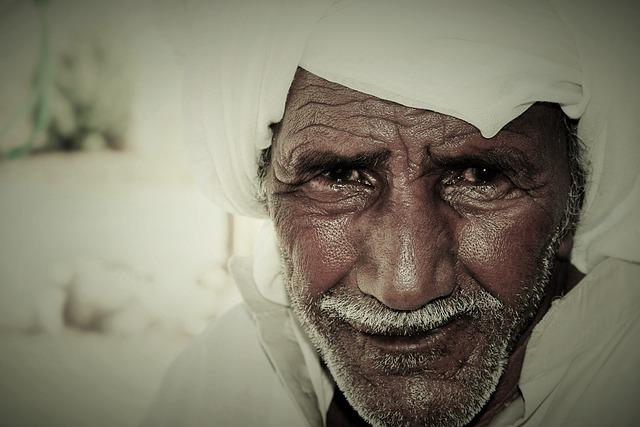crows_feet: (265, 171, 301, 199), (508, 174, 536, 202)
forehead: (296, 93, 346, 115), (355, 107, 401, 129), (292, 116, 332, 136), (439, 128, 475, 145)
frown_line: (394, 137, 418, 171)
gummy_smile: (466, 265, 498, 299), (316, 269, 352, 293)
